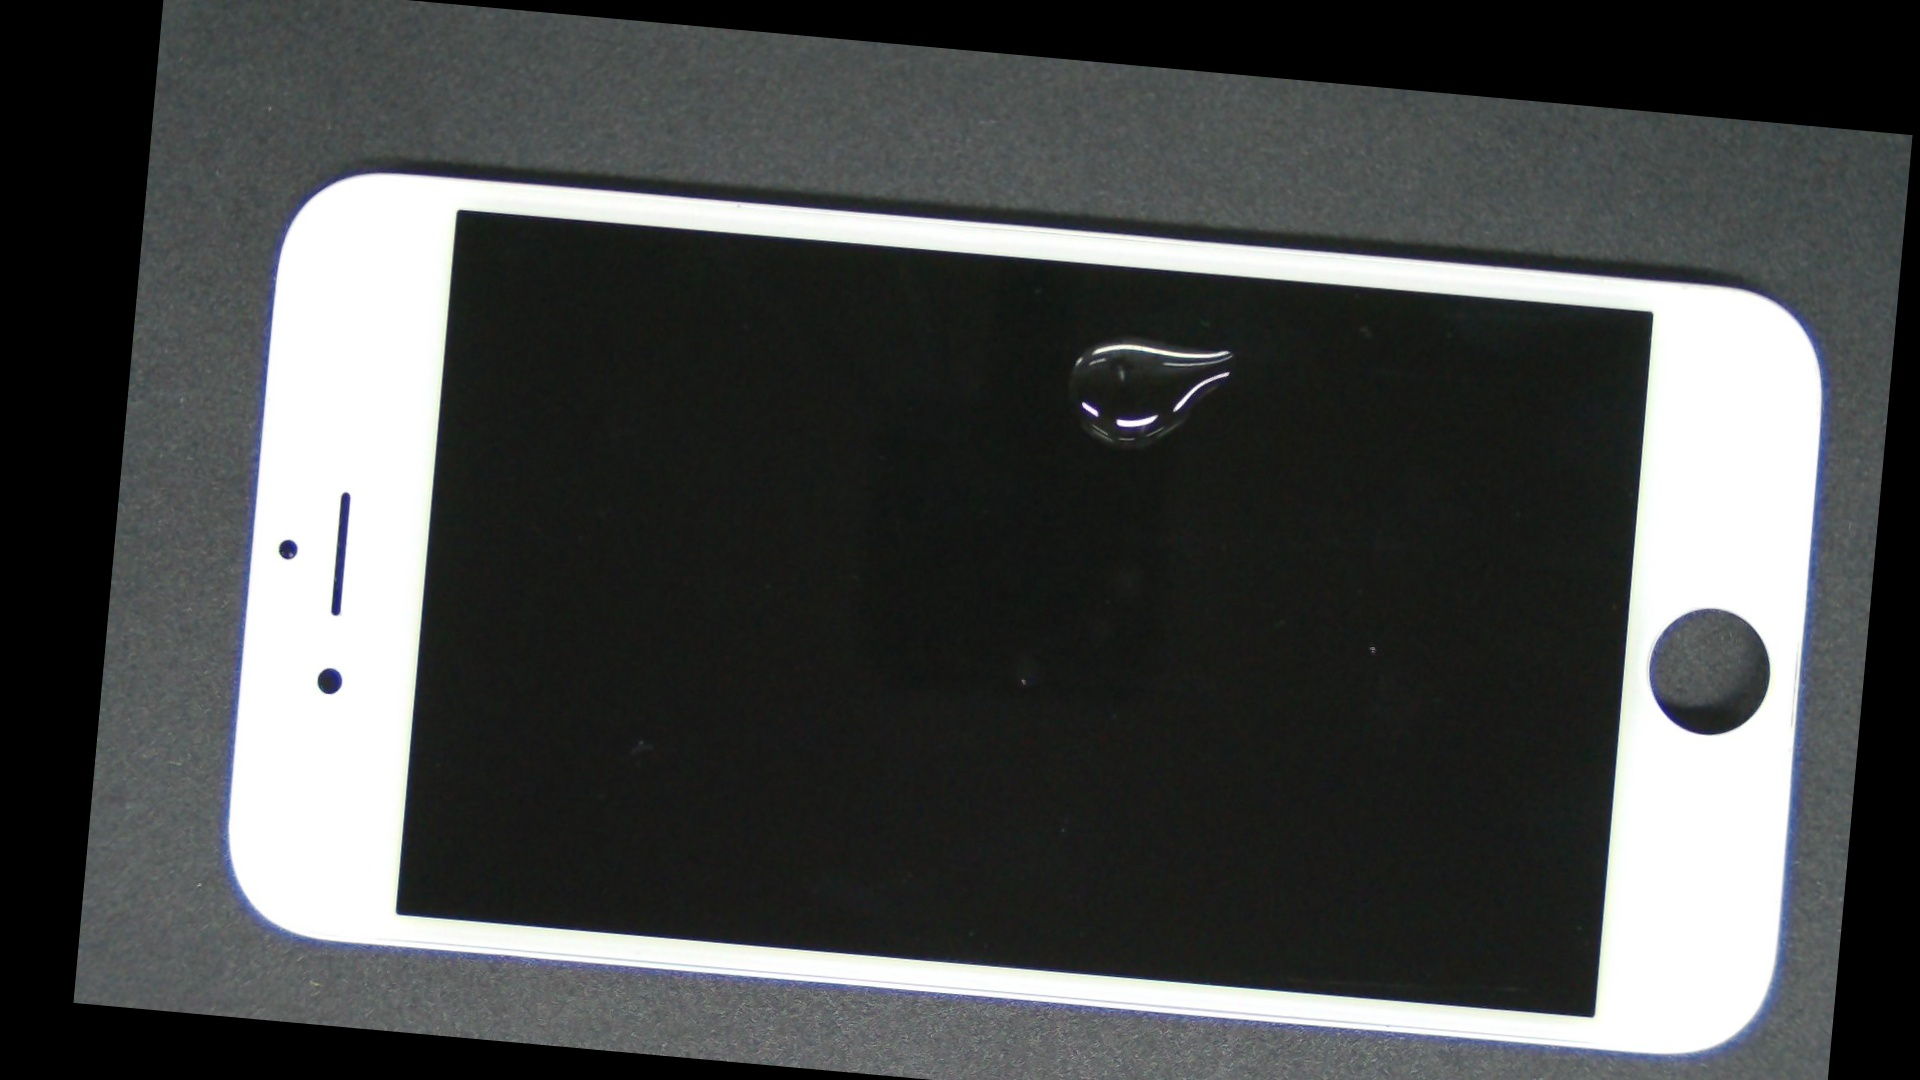oil: (628, 157, 1646, 516)
